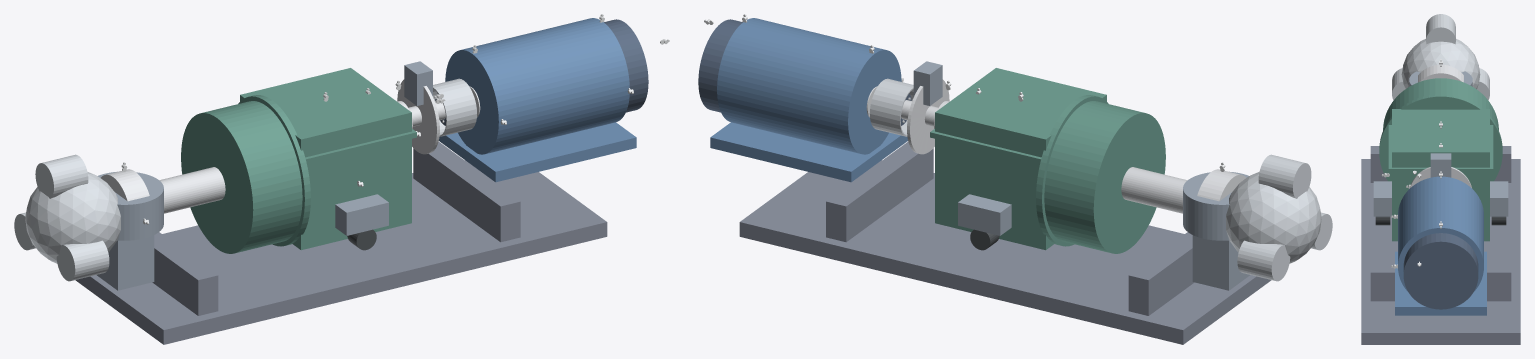
The model's file is wind-turbine-drivetrain.glb.
The picture shows the model from 3 angles, left to right: view 1: azimuth 30°, elevation 25°; view 2: azimuth 150°, elevation 25°; view 3: azimuth 270°, elevation 25°; orthographic projection. The views are drawn at different scales.
Visible parts, largest first — view 1: PART_001, CASING_GENCASE_049, CASING_GBHOUSING_018, CASING_PLANETARY_016, PART_005, PART_003, CASING_GENFOOT_050, PART_002, CASING_MAINBRG_011, CASING_MAINBRG_010, PART_009, CASING_GENCOWL_051 (+9 smaller); view 2: PART_001, CASING_GENCASE_049, CASING_GBHOUSING_018, CASING_PLANETARY_016, PART_005, PART_003, CASING_GENFOOT_050, PART_002, CASING_MAINBRG_011, CASING_MAINBRG_010, PART_009, CASING_GENCOWL_051 (+9 smaller); view 3: PART_001, CASING_GBHOUSING_018, CASING_GENCASE_049, CASING_GENCOWL_051, PART_005, CASING_PLANETARY_017, PART_003, CASING_GENFOOT_050, CASING_PLANETARY_016, PART_002, PART_006, CASING_SPLITLINE_019 (+10 smaller).
Part boxes in pixels (box(x1,y1,x2,y2)): PART_001: box(75, 160, 607, 344); CASING_GENCASE_049: box(445, 18, 629, 154); CASING_GBHOUSING_018: box(240, 68, 411, 250); CASING_PLANETARY_016: box(181, 101, 302, 253); PART_005: box(25, 172, 120, 263); PART_003: box(413, 142, 520, 242); CASING_GENFOOT_050: box(439, 122, 636, 182); PART_002: box(152, 232, 218, 315); CASING_MAINBRG_011: box(97, 235, 154, 290); CASING_MAINBRG_010: box(98, 171, 163, 240); PART_009: box(159, 167, 225, 213); CASING_GENCOWL_051: box(604, 19, 648, 112); PART_001: box(739, 160, 1271, 344); CASING_GENCASE_049: box(717, 18, 901, 154); CASING_GBHOUSING_018: box(935, 68, 1106, 250); CASING_PLANETARY_016: box(1044, 101, 1165, 253); PART_005: box(1226, 171, 1321, 263); PART_003: box(826, 142, 933, 242); CASING_GENFOOT_050: box(710, 122, 907, 182); PART_002: box(1128, 232, 1194, 315); CASING_MAINBRG_011: box(1192, 235, 1249, 290); CASING_MAINBRG_010: box(1183, 171, 1248, 240); PART_009: box(1121, 167, 1187, 213); CASING_GENCOWL_051: box(698, 19, 742, 112); PART_001: box(1361, 159, 1520, 344); CASING_GBHOUSING_018: box(1392, 109, 1489, 241); CASING_GENCASE_049: box(1398, 176, 1483, 291); CASING_GENCOWL_051: box(1403, 233, 1478, 309); PART_005: box(1401, 39, 1480, 89); CASING_PLANETARY_017: box(1379, 94, 1502, 181); PART_003: box(1370, 264, 1511, 301); CASING_GENFOOT_050: box(1395, 251, 1486, 315); CASING_PLANETARY_016: box(1383, 78, 1498, 130); PART_002: box(1370, 146, 1511, 182); PART_006: box(1426, 14, 1455, 44); CASING_SPLITLINE_019: box(1388, 125, 1493, 172).
Size of the model in its own units: 6.19 by 1.66 by 1.7.
